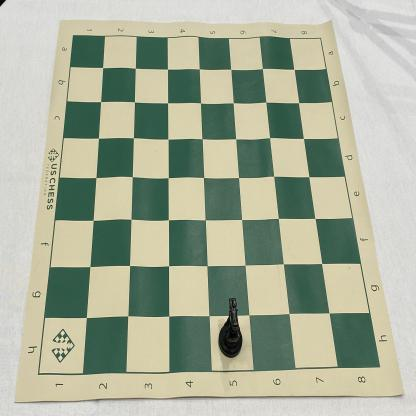black-knight: (218, 298, 243, 358)
